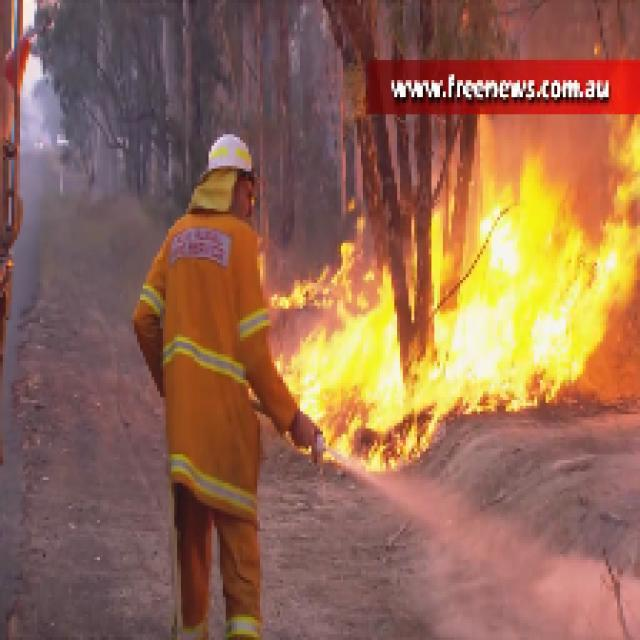Fire: (321, 222, 624, 433)
